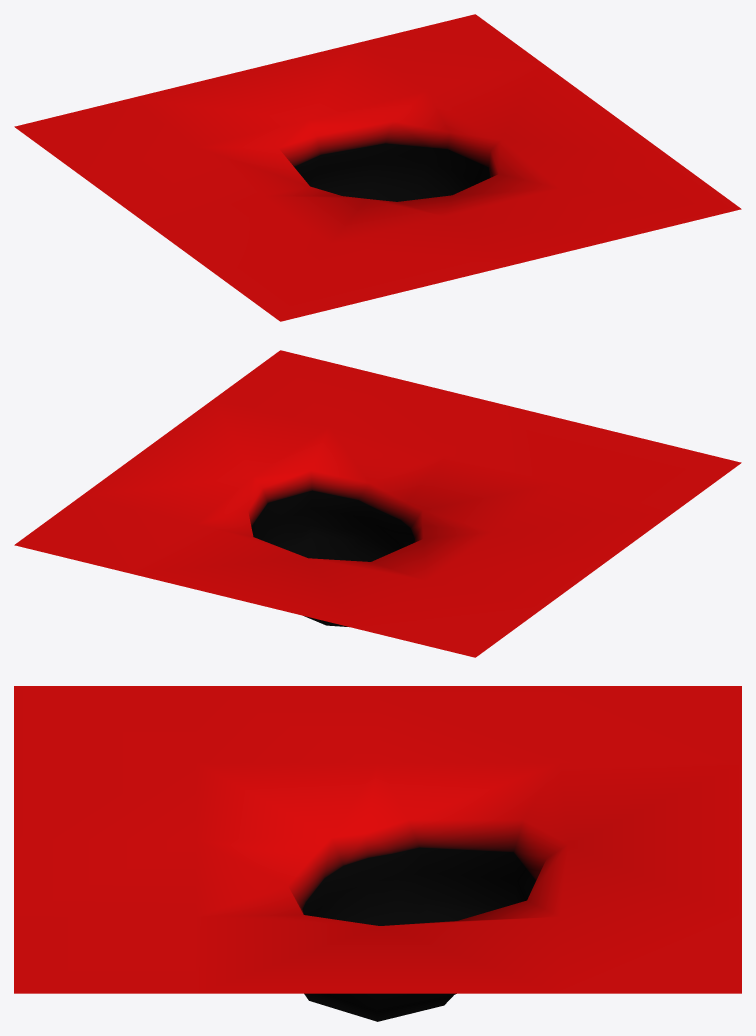
File: GroundBottom01G 2M Background.fbx
3 views of the same model, one above another, from view 1: azimuth 30°, elevation 25°; view 2: azimuth 150°, elevation 25°; view 3: azimuth 270°, elevation 25° (orthographic). The views are drawn at different scales.
Visible parts, largest first — view 1: GroundBottom01G 2M Background; view 2: GroundBottom01G 2M Background; view 3: GroundBottom01G 2M Background.
Boxes of the visible parts, box(x1,y1,x2,y2) form: GroundBottom01G 2M Background: box(14, 14, 741, 321); GroundBottom01G 2M Background: box(14, 350, 741, 657); GroundBottom01G 2M Background: box(14, 686, 741, 1021).
Bounding box in the file's own units: 4 × 0.7183 × 4.
